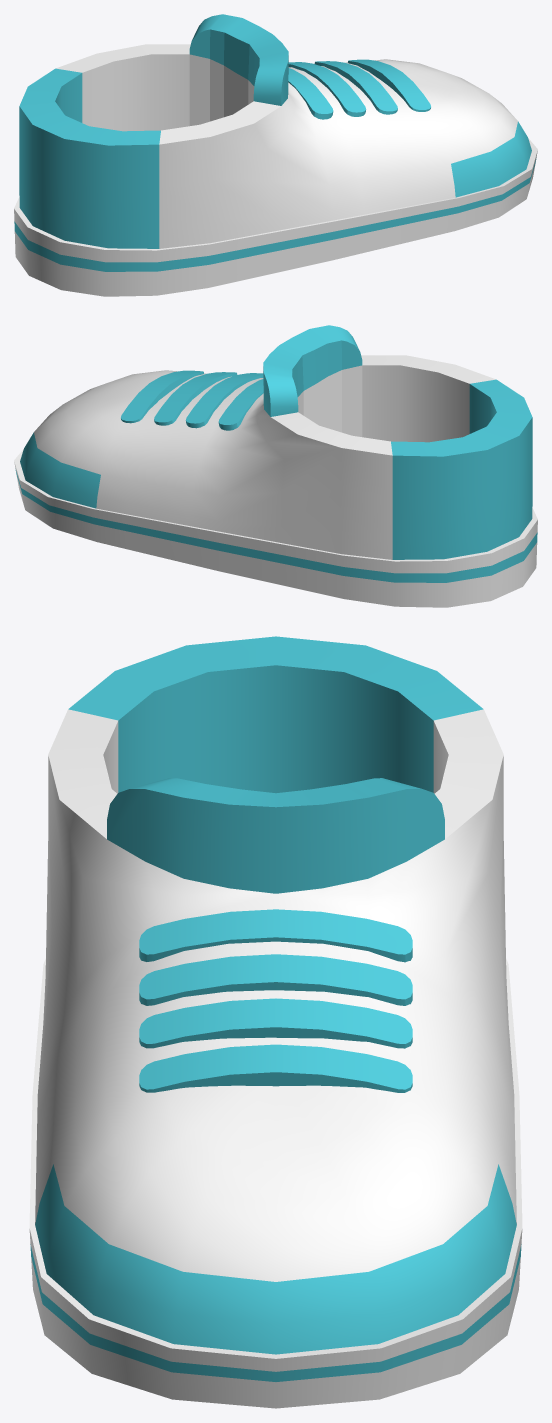
The model's file is running_shoe.fbx.
The picture shows the model from 3 angles, top to bottom: view 1: azimuth 30°, elevation 25°; view 2: azimuth 150°, elevation 25°; view 3: azimuth 270°, elevation 25°; orthographic projection. The views are drawn at different scales.
Parts seen in each view (by area): view 1: Sphere.363; view 2: Sphere.363; view 3: Sphere.363.
Part boxes in pixels (x1,y1,x2,y2): Sphere.363: (14, 14, 537, 296); Sphere.363: (14, 325, 537, 607); Sphere.363: (29, 636, 522, 1408).
Bounding box in the file's own units: 220 × 78.66 × 95.28.
1 material, 1 textured.
